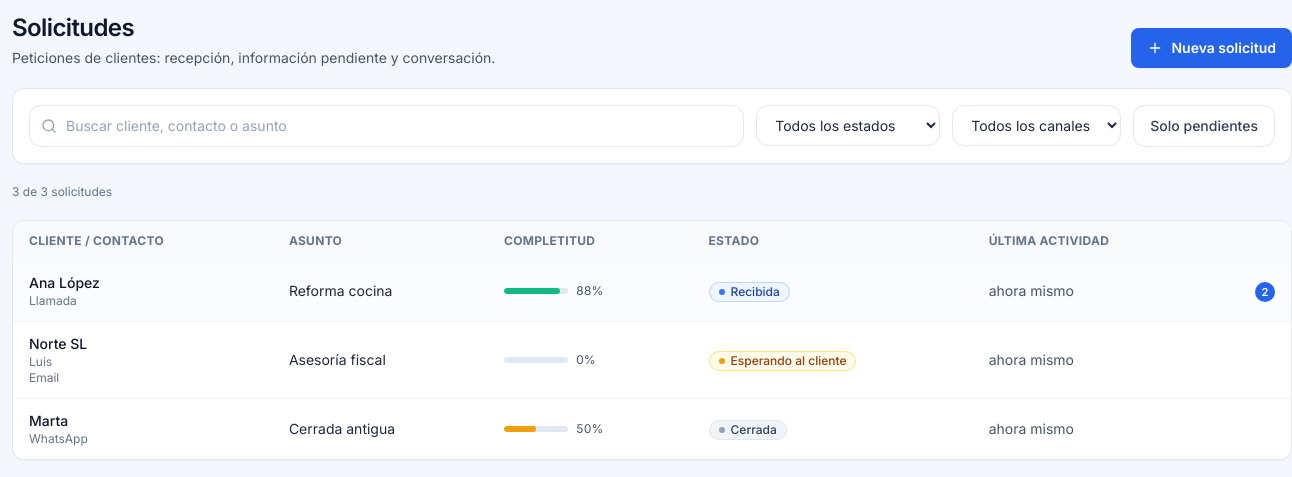
it: <SolicitudesInbox /> › "Solo pendientes" deja únicamente las que requieren acción
This screenshot has width=1292, height=477.
Expected: the table is shown, [13,221,1291,459]
Click the button "Solo pendientes". click: point(1204, 126)
box: [1133,105,1275,147]
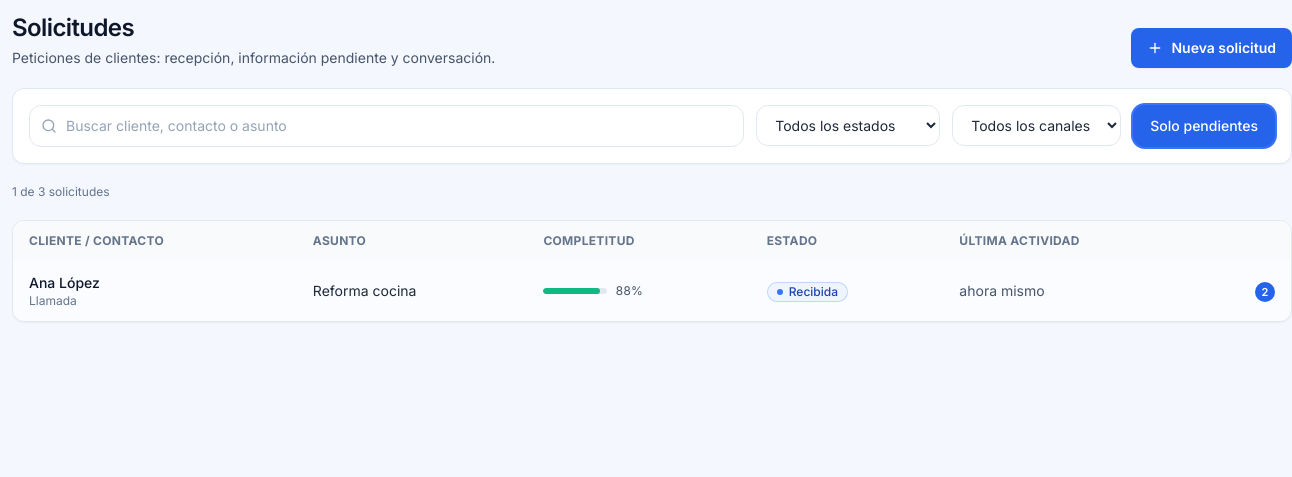
Now the text "1 de 3 solicitudes" is shown, box [12,184,110,199]
